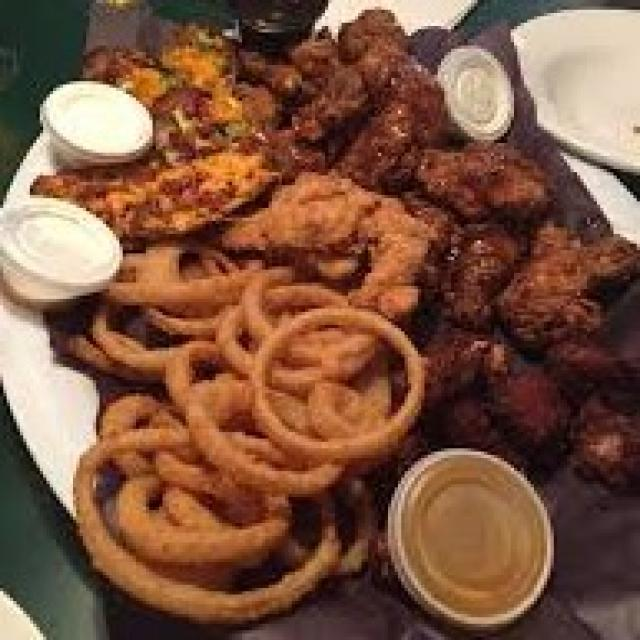Chicken Wings: (238, 20, 636, 488)
Onion Rings: (83, 234, 421, 627)
